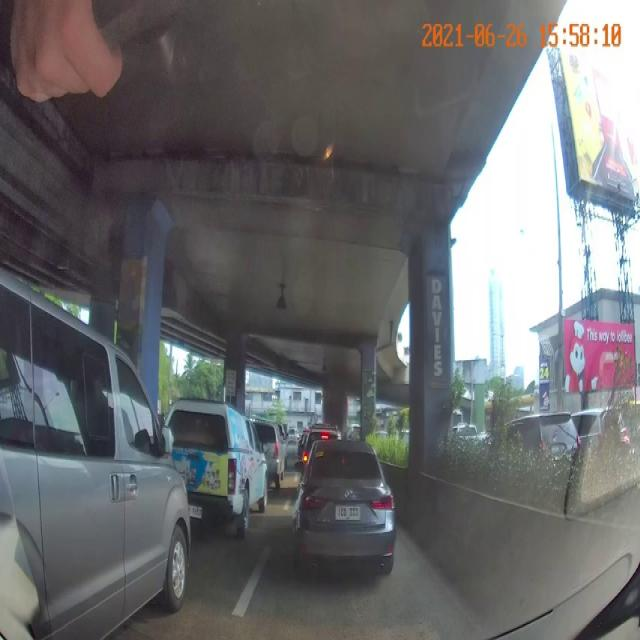car: (0, 300, 192, 629), (167, 399, 270, 543), (296, 442, 390, 582)
